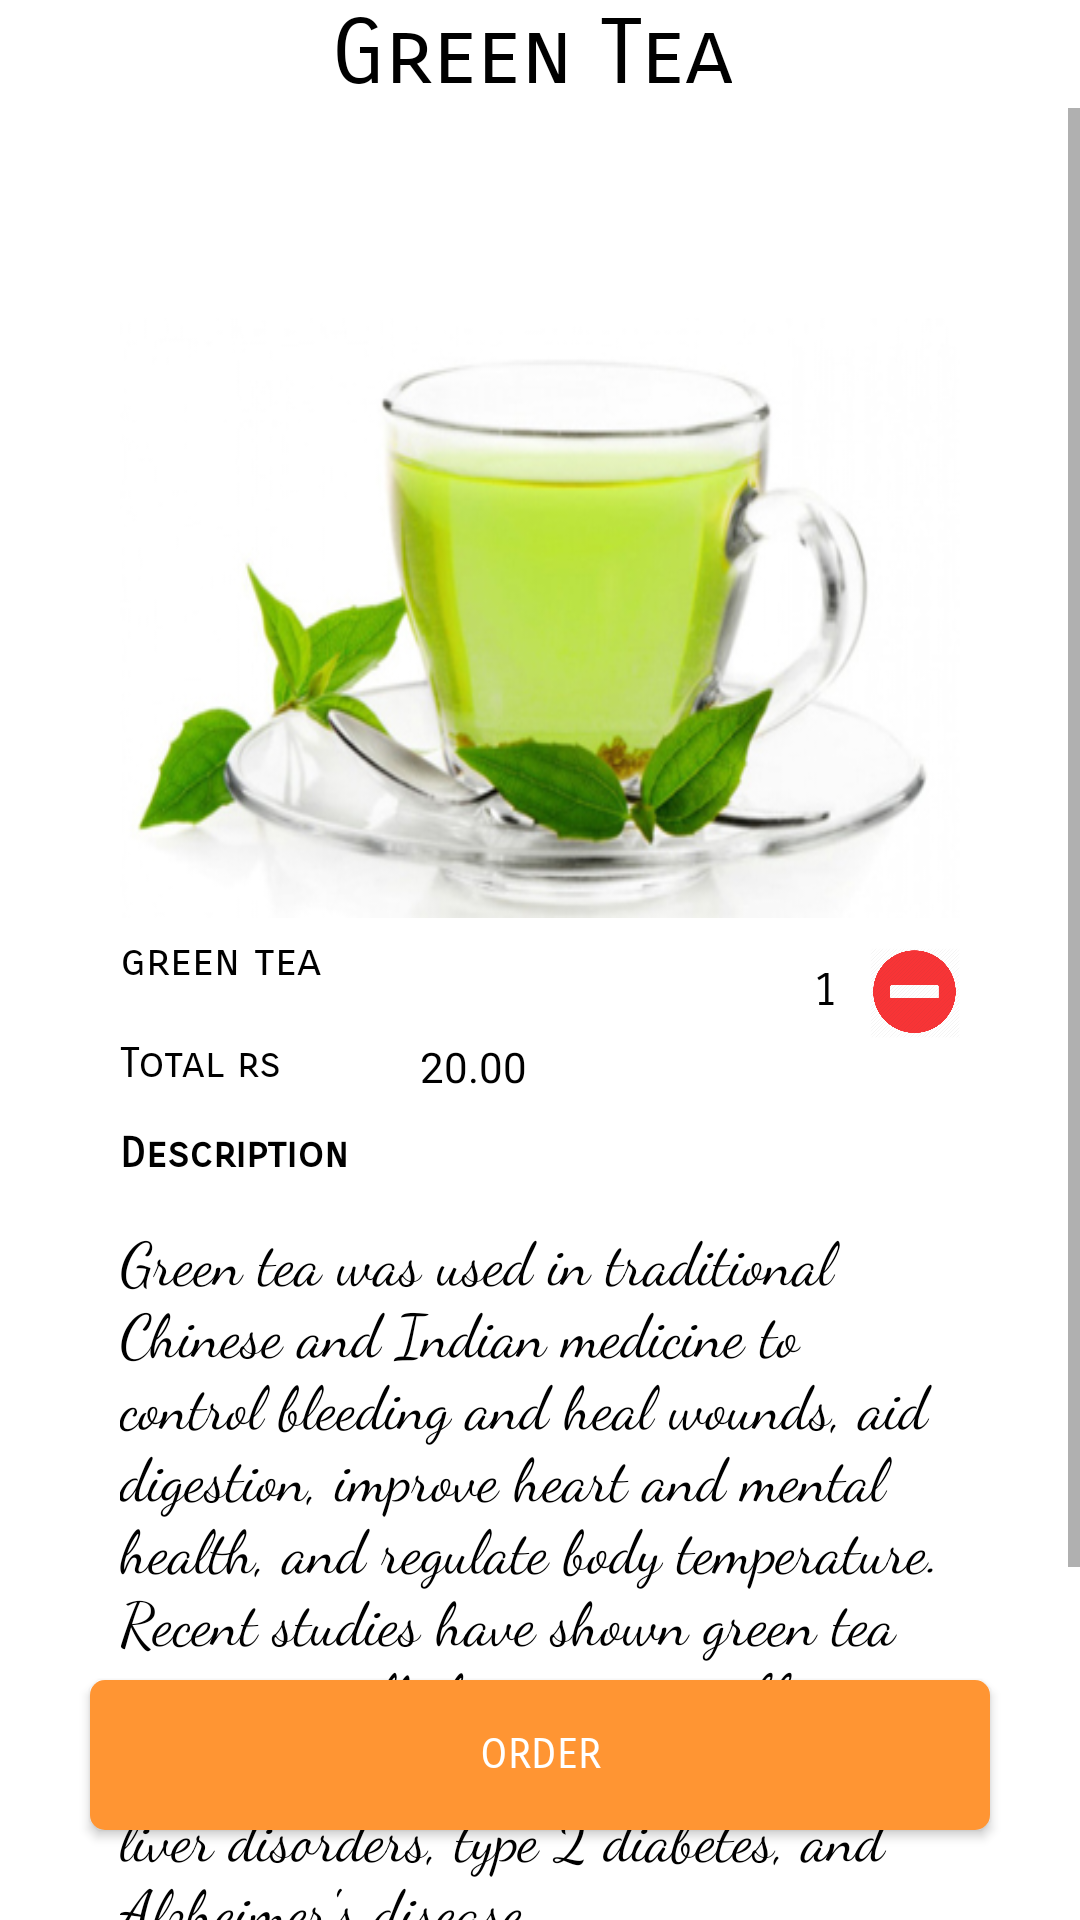

Screen size 1080 × 1920. Icon name, then its box in pixels as (x1, y1, x2, y2):
minus: (873, 950, 956, 1033)
